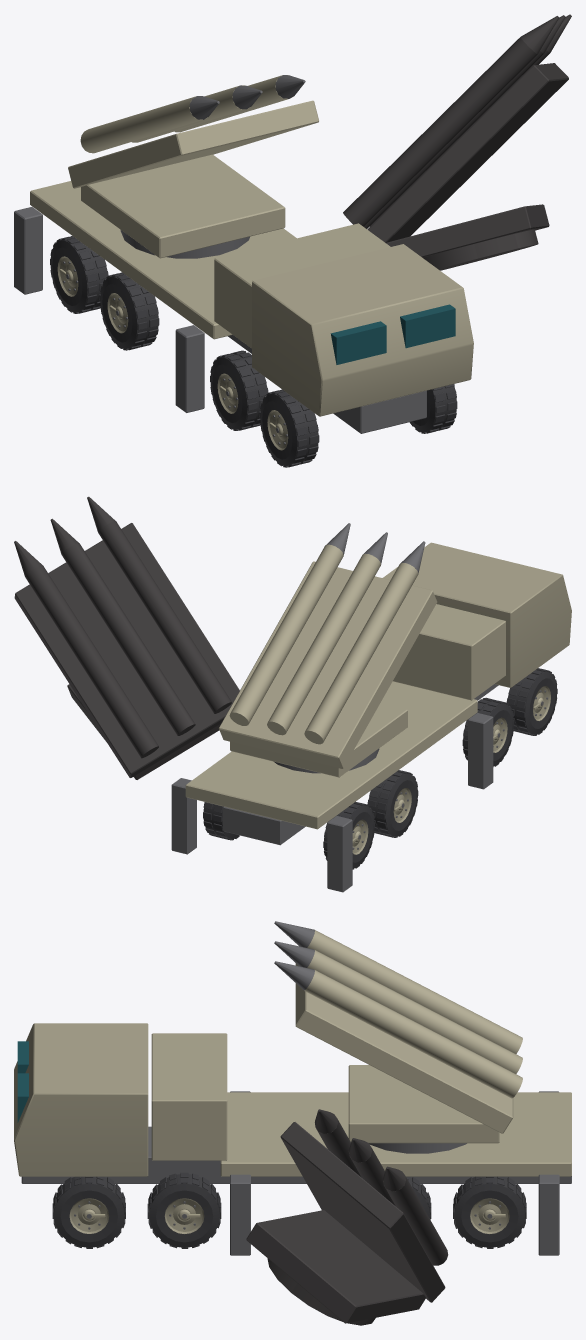
Rendered from samLauncher__akash.glb.
The picture shows the model from 3 angles, top to bottom: view 1: azimuth 30°, elevation 25°; view 2: azimuth 150°, elevation 25°; view 3: azimuth 270°, elevation 25°; orthographic projection. The views are drawn at different scales.
Parts seen in each view (by area): view 1: Hull_Mesh, Wreck, Turret_Mesh, Gun_Mesh, Wheel_L1_Mesh, Wheel_L3_Mesh, Wheel_L2_Mesh, Wheel_L0_Mesh, Wheel_R3_Mesh; view 2: Hull_Mesh, Wreck, Gun_Mesh, Turret_Mesh, Wheel_L3_Mesh, Wheel_L1_Mesh, Wheel_L2_Mesh, Wheel_L0_Mesh, Wheel_R0_Mesh; view 3: Hull_Mesh, Wreck, Gun_Mesh, Turret_Mesh, Wheel_R2_Mesh, Wheel_R3_Mesh, Wheel_R0_Mesh.
Part boxes in pixels (x1=…): Hull_Mesh: x1=14, y1=181, x2=473, y2=433; Wreck: x1=117, y1=14, x2=571, y2=466; Turret_Mesh: x1=81, y1=154, x2=285, y2=258; Gun_Mesh: x1=68, y1=75, x2=318, y2=188; Wheel_L1_Mesh: x1=100, y1=272, x2=159, y2=350; Wheel_L3_Mesh: x1=260, y1=389, x2=319, y2=467; Wheel_L2_Mesh: x1=210, y1=350, x2=268, y2=430; Wheel_L0_Mesh: x1=50, y1=236, x2=108, y2=313; Wheel_R3_Mesh: x1=409, y1=384, x2=457, y2=433; Hull_Mesh: x1=171, y1=542, x2=571, y2=892; Wreck: x1=14, y1=496, x2=545, y2=868; Gun_Mesh: x1=218, y1=523, x2=437, y2=768; Turret_Mesh: x1=230, y1=703, x2=407, y2=777; Wheel_L3_Mesh: x1=506, y1=668, x2=557, y2=735; Wheel_L1_Mesh: x1=367, y1=770, x2=418, y2=837; Wheel_L2_Mesh: x1=462, y1=697, x2=514, y2=766; Wheel_L0_Mesh: x1=323, y1=801, x2=374, y2=869; Wheel_R0_Mesh: x1=203, y1=802, x2=239, y2=840; Hull_Mesh: x1=14, y1=1023, x2=571, y2=1255; Wreck: x1=66, y1=1109, x2=513, y2=1325; Gun_Mesh: x1=274, y1=921, x2=522, y2=1133; Turret_Mesh: x1=348, y1=1065, x2=499, y2=1153; Wheel_R2_Mesh: x1=147, y1=1172, x2=221, y2=1248; Wheel_R3_Mesh: x1=52, y1=1176, x2=125, y2=1248; Wheel_R0_Mesh: x1=453, y1=1176, x2=526, y2=1248.
Size of what is drawn, in the model's own units: 7.86 by 4.55 by 8.5.
